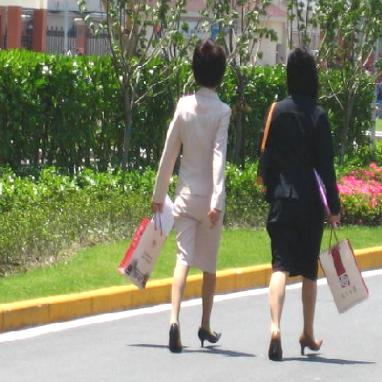ped: (261, 49, 344, 361), (155, 41, 232, 352)
